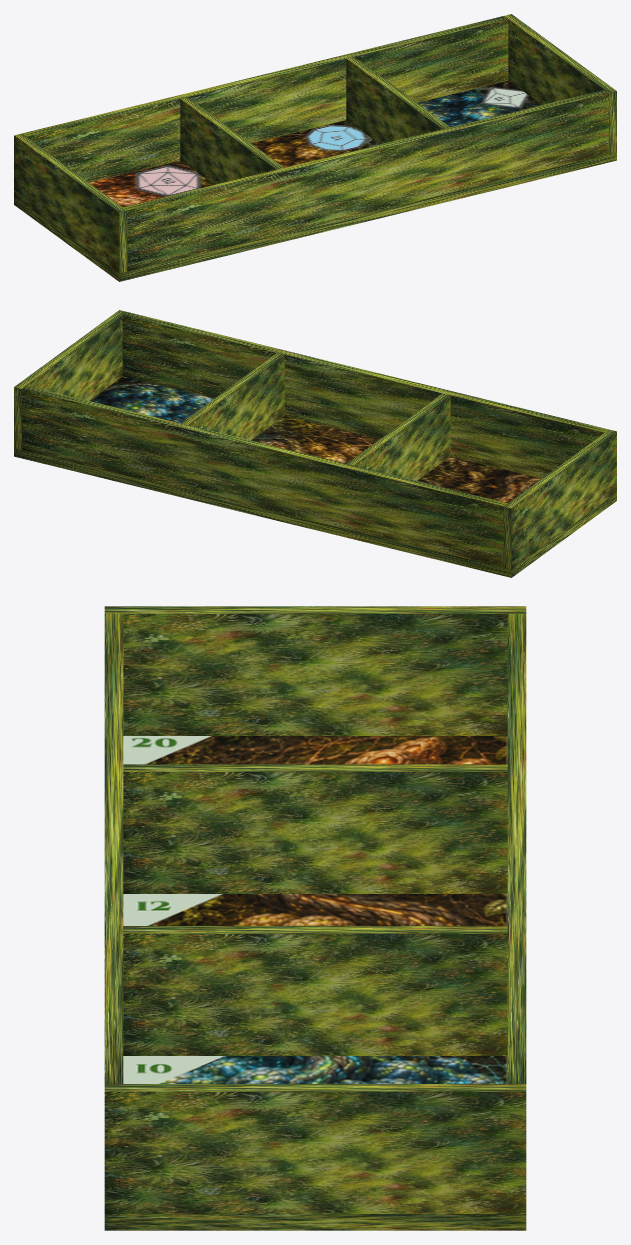
The model's file is Dice_Tray_high.obj.
The picture shows the model from 3 angles, top to bottom: view 1: azimuth 30°, elevation 25°; view 2: azimuth 150°, elevation 25°; view 3: azimuth 270°, elevation 25°; orthographic projection. The views are drawn at different scales.
Parts seen in each view (by area): view 1: Leaf_And_Let_Die_Dice_Tray_high; view 2: Leaf_And_Let_Die_Dice_Tray_high; view 3: Leaf_And_Let_Die_Dice_Tray_high.
Part boxes in pixels (x1,y1,x2,y2): Leaf_And_Let_Die_Dice_Tray_high: [14, 14, 616, 281]; Leaf_And_Let_Die_Dice_Tray_high: [14, 310, 616, 577]; Leaf_And_Let_Die_Dice_Tray_high: [104, 606, 526, 1230].
Bounding box in the file's own units: 10.95 × 1.46 × 4.02.
1 material, 1 textured.
